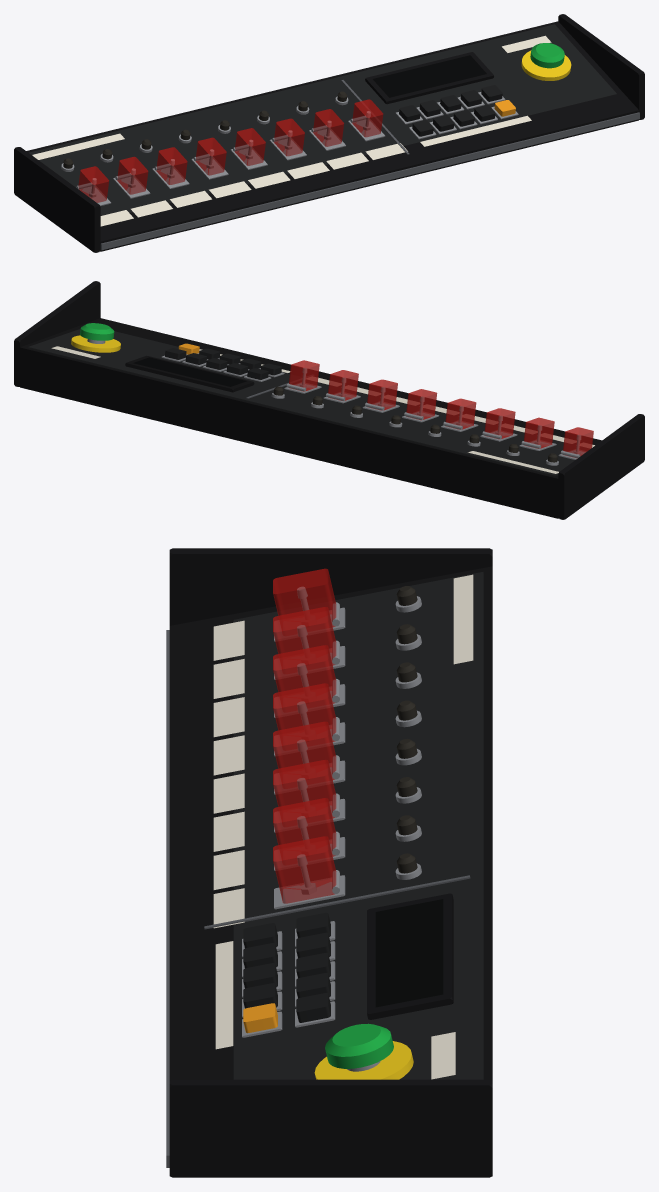
File: ControlBoard.obj
3 views of the same model, one above another, from view 1: azimuth 30°, elevation 25°; view 2: azimuth 150°, elevation 25°; view 3: azimuth 270°, elevation 25° (orthographic). The views are drawn at different scales.
Visible parts, largest first — view 1: ControlBoard_Body, ControlBoard_Fixtures, Screen_Crews, Switch_4_Cover, Switch_2_Cover, Switch_3_Cover, Switch_5_Cover, Switch_6_Cover, Switch_7_Cover, Switch_8_Cover, Switch_1_Cover, StartButton (+10 smaller); view 2: ControlBoard_Body, ControlBoard_Fixtures, Screen_Crews, Switch_3_Cover, Switch_4_Cover, Switch_8_Cover, Switch_2_Cover, Switch_6_Cover, Switch_5_Cover, Switch_7_Cover, Switch_1_Cover, StartButton; view 3: ControlBoard_Body, ControlBoard_Fixtures, Screen_Crews, Switch_8_Cover, Switch_1_Cover, Switch_4_Cover, Switch_3_Cover, Switch_6_Cover, Switch_5_Cover, Switch_2_Cover, Switch_7_Cover, StartButton (+13 smaller).
Part boxes in pixels (x1=…): ControlBoard_Body: x1=14, y1=14, x2=644, y2=252; ControlBoard_Fixtures: x1=61, y1=50, x2=571, y2=205; Screen_Crews: x1=373, y1=55, x2=486, y2=97; Switch_4_Cover: x1=193, y1=137, x2=226, y2=175; Switch_2_Cover: x1=115, y1=156, x2=148, y2=194; Switch_3_Cover: x1=154, y1=147, x2=187, y2=184; Switch_5_Cover: x1=233, y1=128, x2=265, y2=165; Switch_6_Cover: x1=272, y1=118, x2=304, y2=156; Switch_7_Cover: x1=311, y1=109, x2=344, y2=146; Switch_8_Cover: x1=350, y1=99, x2=383, y2=137; Switch_1_Cover: x1=76, y1=166, x2=108, y2=202; StartButton: x1=530, y1=43, x2=564, y2=68; ControlBoard_Body: x1=14, y1=281, x2=644, y2=519; ControlBoard_Fixtures: x1=71, y1=335, x2=585, y2=465; Screen_Crews: x1=133, y1=357, x2=246, y2=386; Switch_3_Cover: x1=482, y1=408, x2=515, y2=439; Switch_4_Cover: x1=443, y1=398, x2=476, y2=429; Switch_8_Cover: x1=286, y1=360, x2=319, y2=391; Switch_2_Cover: x1=521, y1=417, x2=554, y2=448; Switch_6_Cover: x1=365, y1=379, x2=397, y2=410; Switch_5_Cover: x1=404, y1=389, x2=437, y2=420; Switch_7_Cover: x1=326, y1=370, x2=358, y2=400; Switch_1_Cover: x1=561, y1=427, x2=593, y2=458; StartButton: x1=80, y1=323, x2=114, y2=343; ControlBoard_Body: x1=166, y1=548, x2=492, y2=1177; ControlBoard_Fixtures: x1=242, y1=596, x2=453, y2=1079; Screen_Crews: x1=375, y1=899, x2=443, y2=1007; Switch_8_Cover: x1=273, y1=836, x2=339, y2=903; Switch_1_Cover: x1=273, y1=568, x2=339, y2=631; Switch_4_Cover: x1=273, y1=683, x2=339, y2=745; Switch_3_Cover: x1=273, y1=645, x2=339, y2=707; Switch_6_Cover: x1=273, y1=759, x2=339, y2=822; Switch_5_Cover: x1=273, y1=721, x2=339, y2=784; Switch_2_Cover: x1=273, y1=607, x2=339, y2=669; Switch_7_Cover: x1=273, y1=798, x2=339, y2=860; StartButton: x1=325, y1=1023, x2=393, y2=1071.
Bounding box in the file's own units: 1.12 × 0.0961 × 0.2889.
